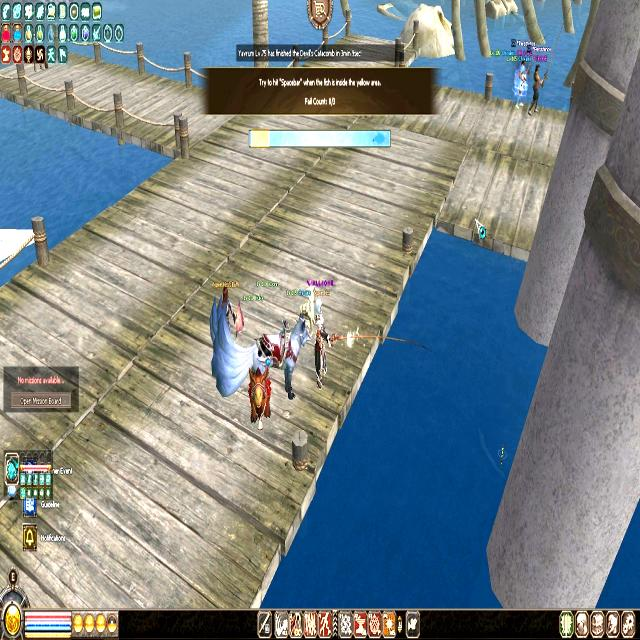box: (251, 130, 269, 148)
fishes: (371, 129, 386, 148)
